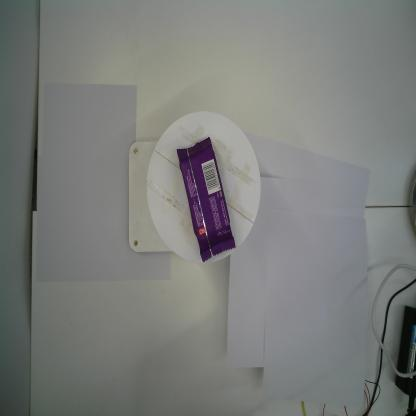Dessert: (176, 136, 236, 263)
